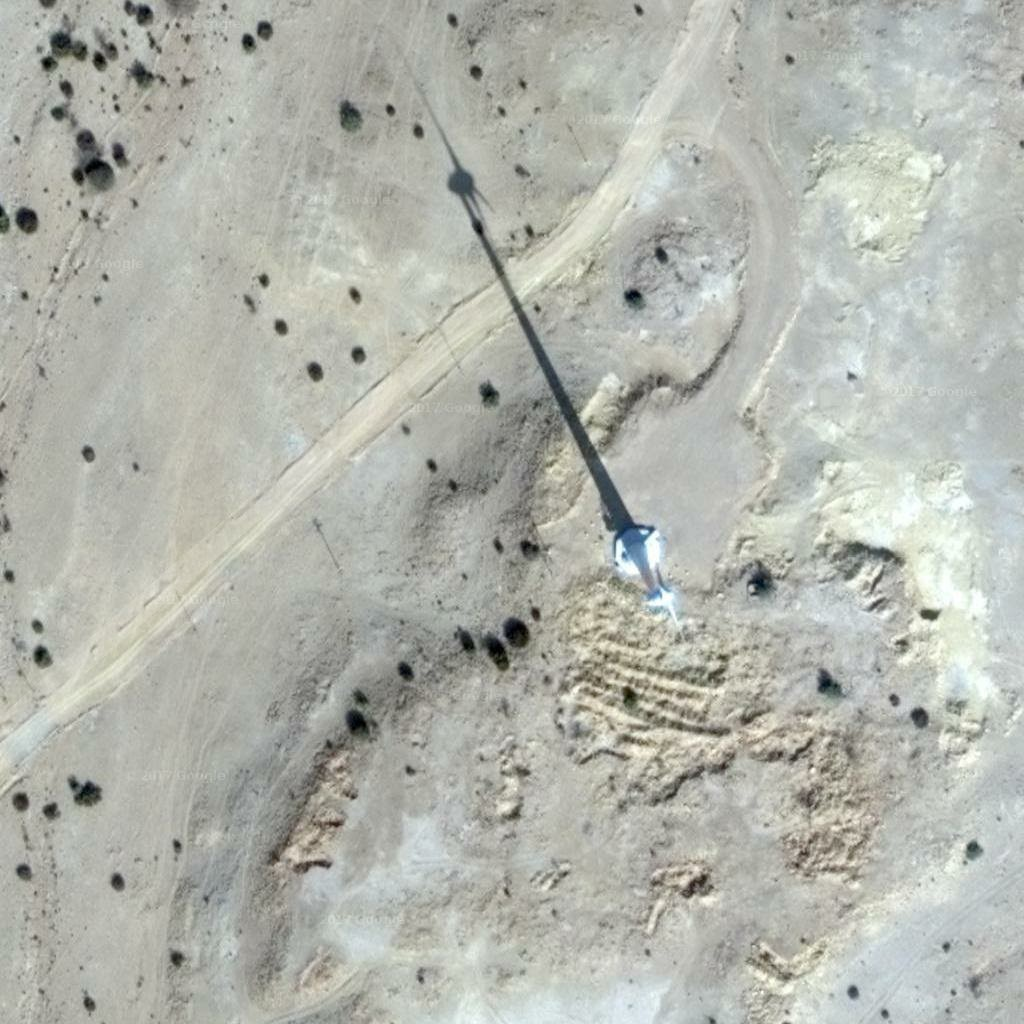Windmill: (404, 70, 640, 527)
